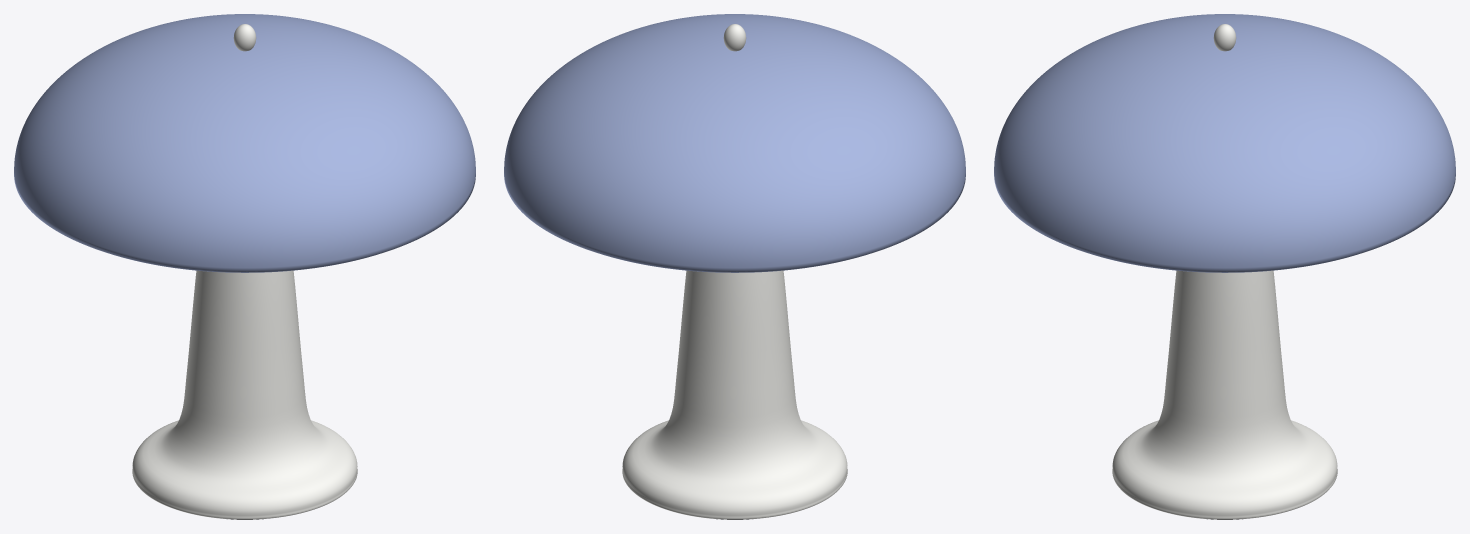
File: dome-lamp.glb
3 views of the same model, side by side, from view 1: azimuth 30°, elevation 25°; view 2: azimuth 150°, elevation 25°; view 3: azimuth 270°, elevation 25° (orthographic).
Visible parts, largest first — view 1: double-walled-enamel-dome, continuous-flared-ceramic-pedestal; view 2: double-walled-enamel-dome, continuous-flared-ceramic-pedestal; view 3: double-walled-enamel-dome, continuous-flared-ceramic-pedestal.
Part boxes in pixels (box(x1,y1,x2,y2)): double-walled-enamel-dome: box(14, 14, 475, 272); continuous-flared-ceramic-pedestal: box(132, 270, 357, 519); double-walled-enamel-dome: box(504, 14, 965, 272); continuous-flared-ceramic-pedestal: box(622, 270, 847, 519); double-walled-enamel-dome: box(994, 14, 1455, 272); continuous-flared-ceramic-pedestal: box(1112, 270, 1337, 519).
Size of the model in its own units: 1.83 by 2 by 1.83.
